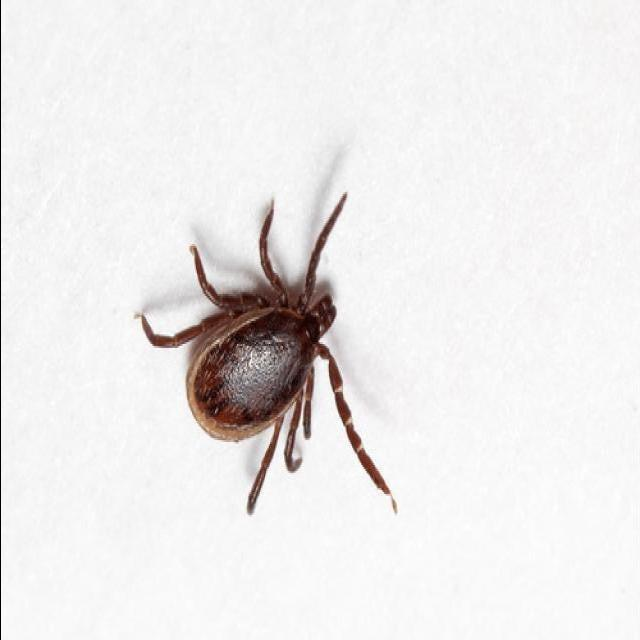Ixodes Ricinus-M: (134, 192, 393, 513)
